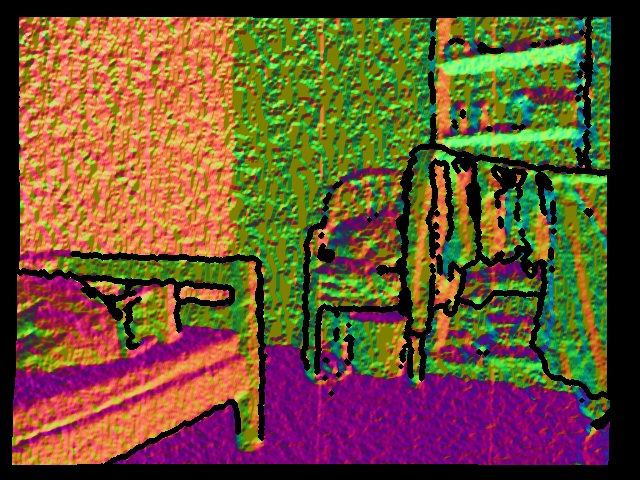station: (119, 278, 181, 359)
